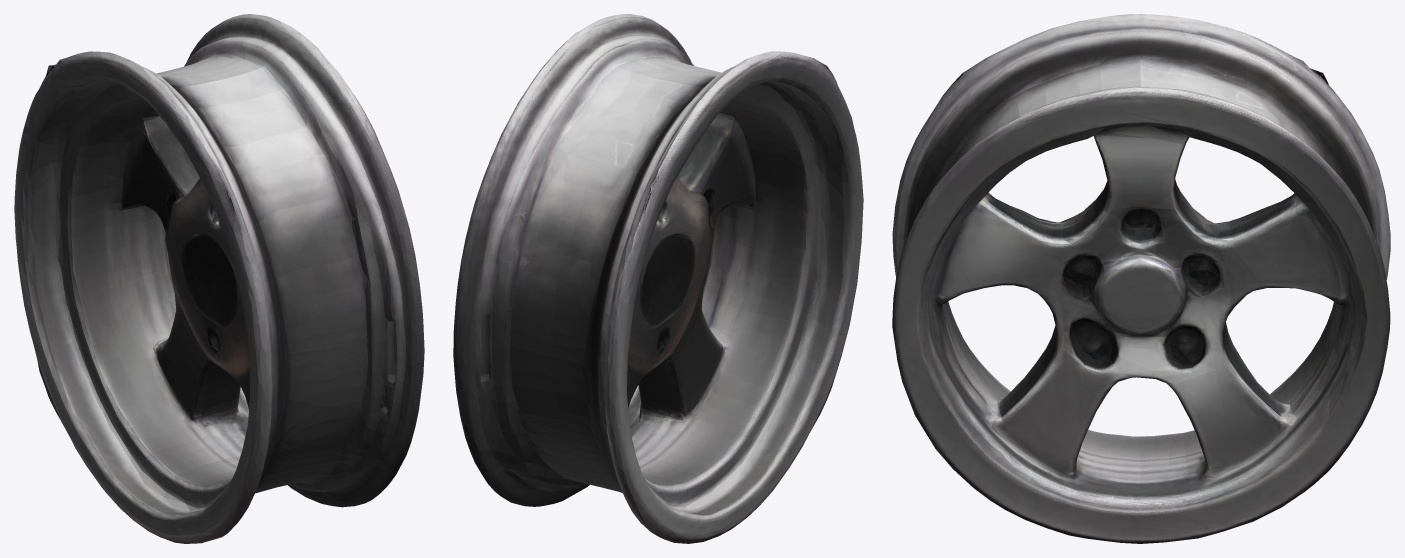
File: Telurio.fbx
The picture shows the model from 3 angles, left to right: view 1: azimuth 30°, elevation 25°; view 2: azimuth 150°, elevation 25°; view 3: azimuth 270°, elevation 25°; orthographic projection.
Visible parts, largest first — view 1: world; view 2: world; view 3: world.
Boxes of the visible parts, left/top/right/bottom form: world: left=14, top=14, right=424, bottom=543; world: left=453, top=14, right=863, bottom=543; world: left=892, top=14, right=1390, bottom=543.
Size of the model in its own units: 90.56 by 34.98 by 91.57.
Materials: 1 (1 with a texture image).
